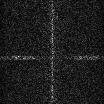wifi: (1, 54, 104, 59)
